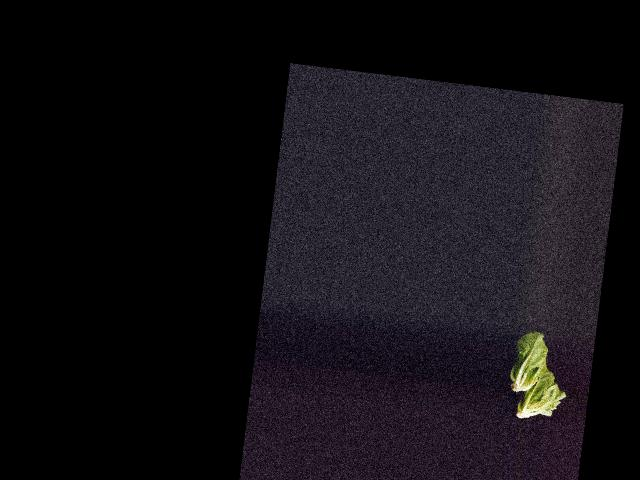lettuce: (509, 356, 569, 423)
